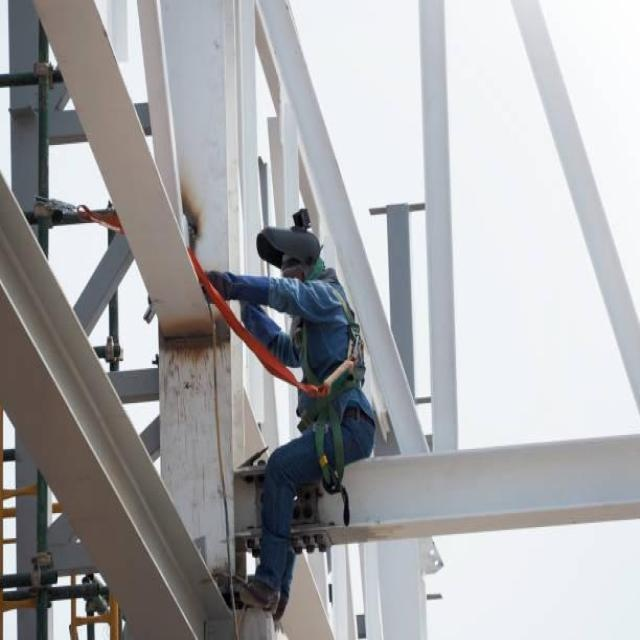Arnes_seguridad: (290, 272, 377, 493)
